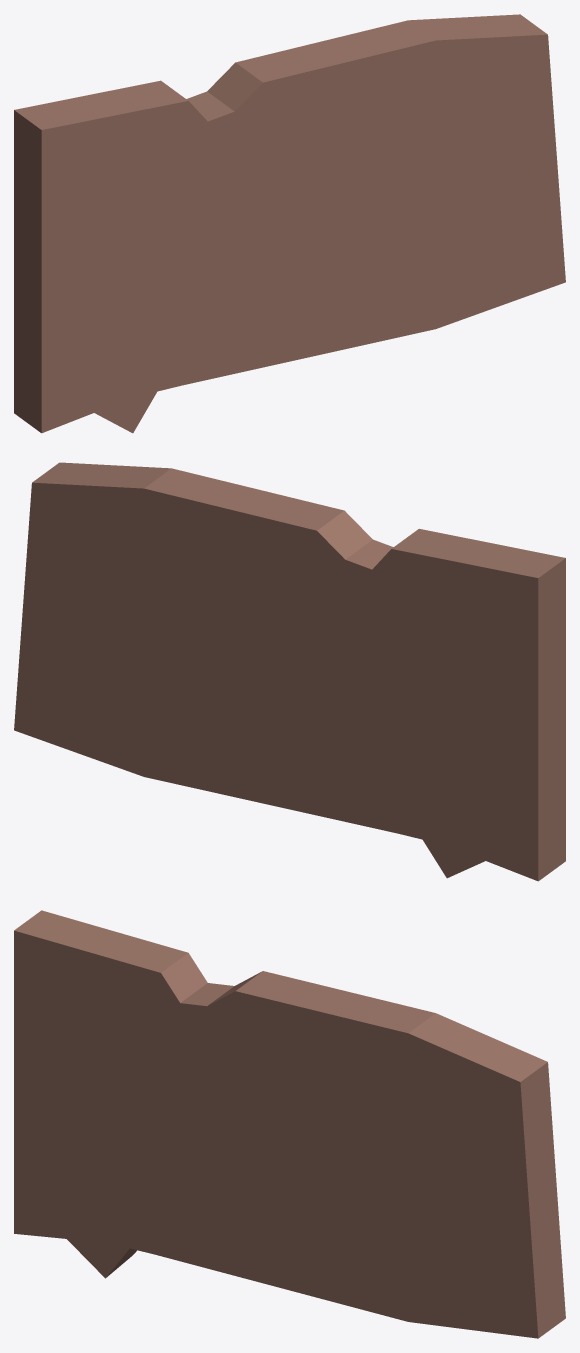
File: Brick 03.fbx
3 renders of one model, top to bottom at view 1: azimuth 30°, elevation 25°; view 2: azimuth 150°, elevation 25°; view 3: azimuth 330°, elevation 25°, orthographic.
Visible parts, largest first — view 1: Brick 03; view 2: Brick 03; view 3: Brick 03.
Part boxes in pixels (left/top/right/bottom): Brick 03: left=14, top=14, right=565, bottom=433; Brick 03: left=14, top=462, right=565, bottom=881; Brick 03: left=14, top=910, right=565, bottom=1338.
Bounding box in the file's own units: 33.47 × 19.87 × 3.05.
